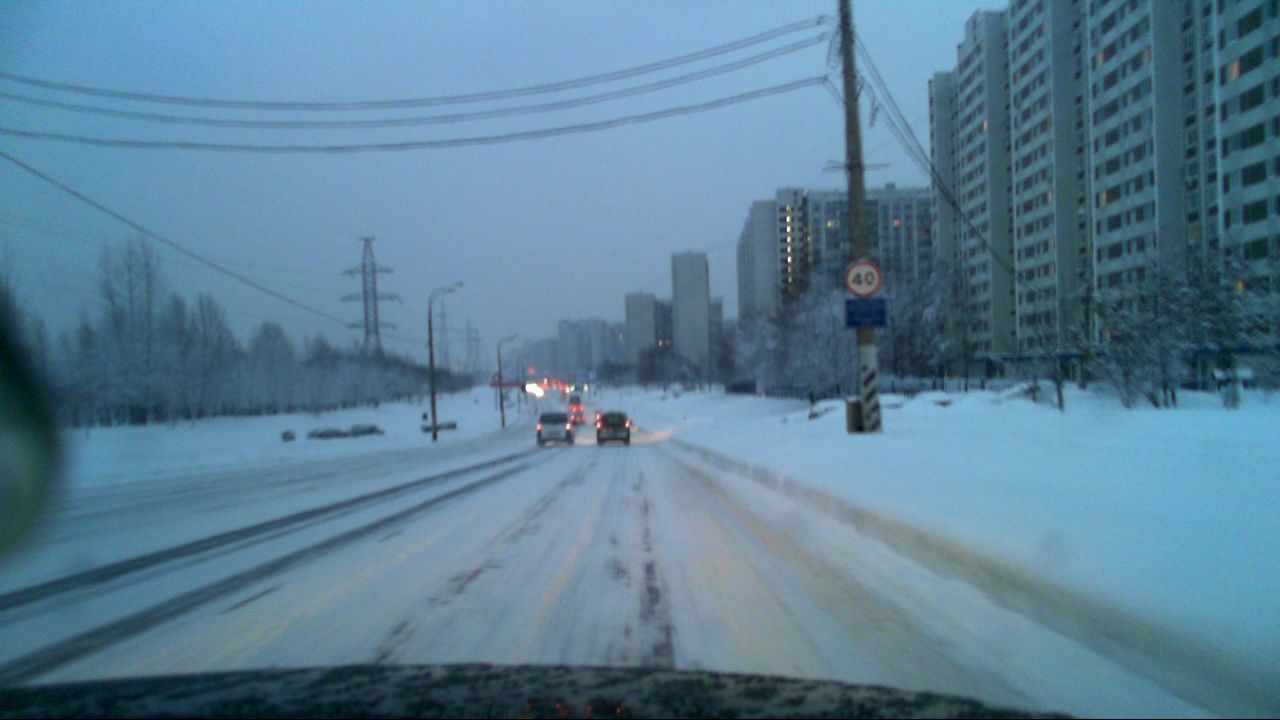speed_warning_40: (844, 258, 880, 296)
